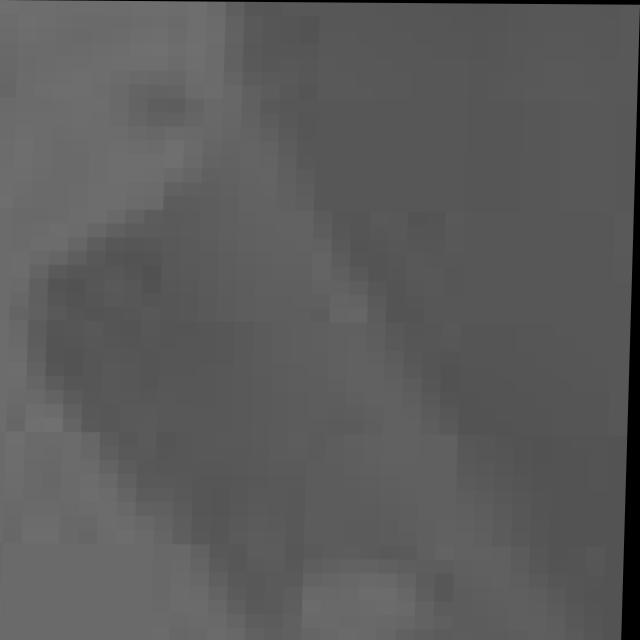fracture: (0, 1, 627, 640)
